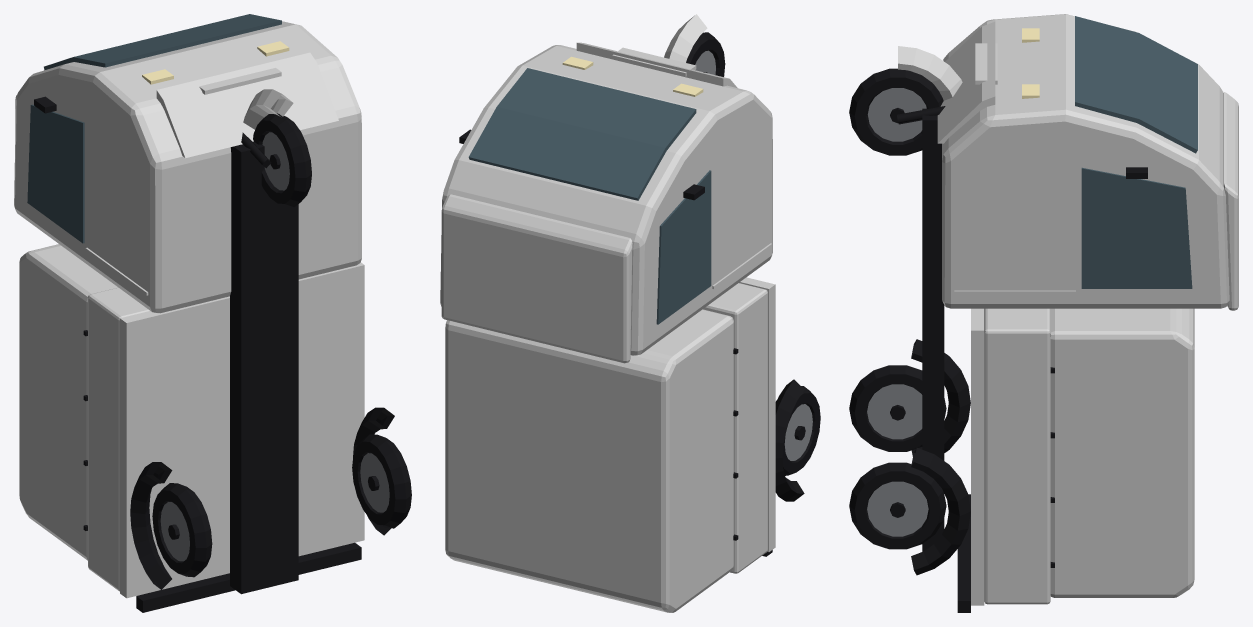
The model's file is SolarpunkElectricTrike01.fbx.
3 renders of one model, left to right at view 1: azimuth 30°, elevation 25°; view 2: azimuth 150°, elevation 25°; view 3: azimuth 270°, elevation 25°, orthographic. The views are drawn at different scales.
Visible parts, largest first — view 1: SolarpunkElectricTrike01; view 2: SolarpunkElectricTrike01; view 3: SolarpunkElectricTrike01.
Boxes of the visible parts, x1,y1,x2,y2 form: SolarpunkElectricTrike01: (14, 14, 411, 612); SolarpunkElectricTrike01: (440, 14, 820, 612); SolarpunkElectricTrike01: (849, 14, 1238, 612).
Bounding box in the file's own units: 128 × 256 × 176.
Materials: 1 (1 with a texture image).
